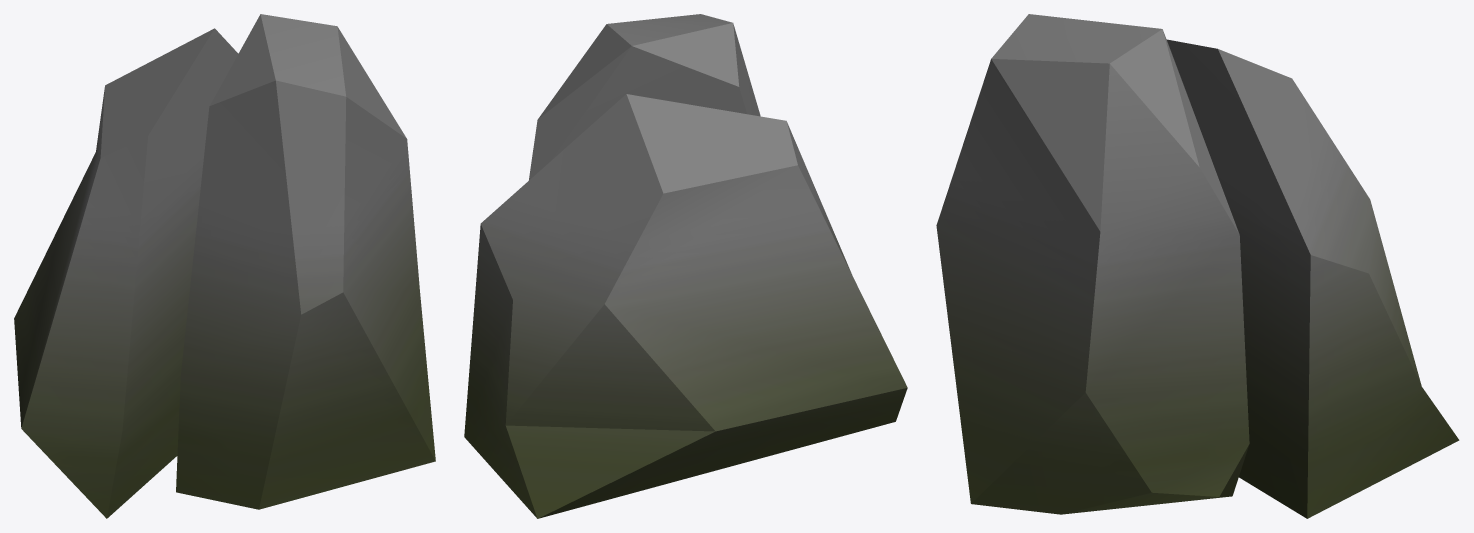
File: ea_environment_stone_moss_01b_pre__13__lev1.glb
3 views of the same model, side by side, from view 1: azimuth 30°, elevation 25°; view 2: azimuth 150°, elevation 25°; view 3: azimuth 270°, elevation 25° (orthographic). The views are drawn at different scales.
Visible parts, largest first — view 1: ea_environment_stone_moss_01b_pre__13__lev1; view 2: ea_environment_stone_moss_01b_pre__13__lev1; view 3: ea_environment_stone_moss_01b_pre__13__lev1.
Part boxes in pixels (box(x1,y1,x2,y2)): ea_environment_stone_moss_01b_pre__13__lev1: box(14, 14, 435, 518); ea_environment_stone_moss_01b_pre__13__lev1: box(464, 14, 907, 518); ea_environment_stone_moss_01b_pre__13__lev1: box(936, 14, 1459, 518).
Bounding box in the file's own units: 1.61 × 1.58 × 1.74.
Materials: 1 (1 with a texture image).
